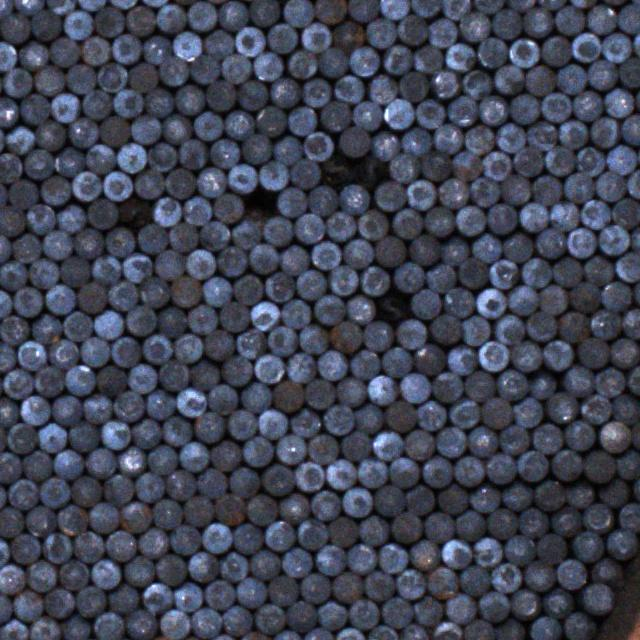tool: (435, 219, 480, 270), (346, 394, 393, 442), (48, 192, 96, 238), (262, 122, 312, 165), (273, 232, 317, 279), (0, 113, 44, 157), (47, 136, 90, 180), (539, 586, 577, 618), (154, 552, 188, 587), (524, 366, 559, 400), (11, 586, 44, 622), (598, 420, 632, 454), (332, 18, 366, 52), (343, 291, 378, 324), (589, 556, 625, 588), (106, 581, 140, 614), (532, 476, 566, 509), (25, 559, 58, 592), (426, 566, 459, 599), (280, 545, 313, 578), (200, 521, 233, 554), (371, 428, 404, 461), (187, 357, 220, 390), (347, 348, 380, 381), (234, 326, 267, 359), (530, 421, 563, 454), (461, 121, 494, 154), (509, 586, 541, 620), (604, 528, 638, 560), (448, 397, 482, 429), (358, 262, 392, 294), (561, 364, 595, 396), (492, 310, 524, 344), (10, 230, 42, 264), (579, 584, 615, 614), (105, 530, 138, 562), (56, 502, 89, 534), (6, 478, 39, 510), (101, 474, 134, 506), (157, 608, 190, 640), (444, 592, 477, 624), (120, 500, 153, 532), (245, 494, 278, 526), (468, 479, 500, 512), (195, 468, 228, 500), (517, 449, 549, 482), (556, 558, 588, 591), (6, 422, 39, 454), (53, 449, 85, 482), (210, 439, 242, 472), (338, 429, 370, 462), (258, 408, 290, 441), (385, 399, 417, 432), (94, 365, 127, 397), (220, 354, 253, 386), (284, 352, 317, 384), (264, 271, 296, 304), (545, 391, 578, 423), (494, 368, 527, 400), (576, 336, 609, 368), (557, 310, 590, 342), (475, 286, 508, 318), (486, 202, 519, 234), (531, 173, 564, 205), (195, 165, 227, 198), (160, 112, 193, 144), (32, 64, 65, 96), (507, 36, 540, 68), (138, 526, 169, 560), (292, 461, 326, 492), (582, 450, 616, 481), (238, 382, 272, 413), (414, 342, 445, 376), (568, 281, 602, 312), (255, 104, 286, 138), (316, 598, 348, 630), (381, 597, 413, 629), (478, 590, 510, 622), (266, 574, 298, 606), (332, 571, 364, 603), (524, 560, 556, 592), (123, 555, 155, 587), (217, 550, 249, 582), (377, 542, 409, 574), (504, 534, 536, 566), (296, 518, 328, 550), (551, 504, 583, 536), (278, 490, 310, 522), (572, 530, 604, 562), (290, 406, 322, 438), (19, 394, 51, 426), (114, 390, 146, 422), (272, 380, 304, 412), (254, 352, 286, 384), (109, 336, 141, 368), (92, 307, 124, 339), (124, 304, 156, 336), (249, 299, 281, 331), (498, 424, 530, 456), (512, 396, 544, 428), (542, 338, 574, 370), (356, 208, 388, 240), (572, 90, 604, 122), (605, 143, 637, 175), (75, 584, 106, 617), (73, 530, 104, 563), (26, 504, 57, 537), (341, 487, 374, 518), (435, 425, 466, 458), (401, 371, 432, 404), (395, 318, 428, 349), (30, 312, 63, 343), (44, 283, 77, 314), (73, 227, 106, 258), (500, 172, 531, 205), (381, 43, 414, 74), (44, 586, 74, 620), (313, 544, 347, 574), (421, 512, 455, 542), (323, 402, 353, 436), (45, 338, 79, 368), (156, 303, 186, 337), (482, 394, 512, 428), (610, 390, 640, 424), (59, 559, 91, 590), (90, 558, 122, 589), (10, 532, 41, 564), (70, 474, 101, 506), (220, 604, 252, 635), (348, 598, 380, 629), (172, 580, 204, 611), (363, 570, 395, 601), (490, 562, 522, 593), (440, 538, 471, 570), (232, 522, 263, 554), (487, 507, 518, 539), (213, 494, 245, 525), (436, 482, 468, 513), (228, 467, 259, 499), (261, 464, 293, 495), (454, 455, 486, 486), (550, 450, 582, 481), (3, 368, 34, 400), (86, 447, 118, 478), (243, 436, 274, 468), (306, 432, 338, 463), (130, 417, 162, 448), (194, 412, 226, 443), (366, 374, 398, 405), (432, 371, 464, 402), (156, 358, 188, 389), (140, 334, 172, 365), (268, 325, 300, 356), (298, 322, 329, 354), (217, 301, 249, 332), (312, 294, 344, 325), (564, 421, 596, 452), (510, 340, 541, 372), (457, 257, 488, 289), (519, 256, 551, 287), (8, 176, 39, 208), (82, 88, 113, 120), (374, 235, 406, 266), (167, 220, 198, 252), (261, 215, 293, 246), (548, 201, 580, 232), (451, 149, 483, 180), (146, 140, 178, 171), (526, 120, 558, 151), (509, 92, 540, 124), (205, 78, 236, 110), (366, 74, 398, 105), (524, 64, 556, 95), (65, 62, 96, 94), (141, 32, 172, 64), (521, 7, 553, 38), (251, 603, 284, 633), (358, 515, 391, 545), (405, 482, 435, 515), (502, 476, 532, 509), (486, 451, 516, 484), (329, 321, 362, 351), (62, 309, 92, 342), (169, 276, 202, 306), (478, 339, 508, 372), (99, 114, 132, 144), (408, 233, 438, 266), (456, 203, 486, 236), (437, 178, 470, 208), (15, 39, 48, 69), (62, 9, 95, 39), (444, 42, 477, 72), (173, 28, 203, 61), (125, 609, 156, 640), (189, 607, 220, 638), (412, 594, 443, 625), (170, 524, 201, 555), (15, 339, 46, 370), (404, 429, 435, 460), (416, 399, 447, 430), (51, 395, 82, 426), (203, 328, 234, 359), (430, 312, 461, 343), (464, 370, 495, 401), (121, 251, 152, 282), (153, 249, 184, 280), (325, 210, 356, 241), (424, 206, 455, 237), (406, 178, 437, 209), (494, 120, 525, 151), (383, 97, 414, 128), (415, 98, 446, 129), (447, 94, 478, 125), (173, 83, 204, 114), (579, 199, 610, 230), (124, 5, 155, 36), (490, 8, 521, 39), (155, 3, 186, 34), (42, 531, 72, 563), (284, 601, 316, 631), (248, 549, 280, 579), (518, 506, 550, 536), (373, 485, 405, 515), (164, 470, 196, 500), (356, 457, 388, 487), (388, 457, 420, 487), (422, 456, 452, 488), (12, 286, 44, 316), (146, 444, 178, 474), (179, 441, 209, 473), (207, 383, 237, 415), (281, 297, 311, 329), (411, 288, 443, 318), (75, 282, 107, 312), (202, 274, 232, 306), (466, 426, 496, 458), (445, 345, 477, 375), (489, 258, 519, 290), (550, 257, 582, 287), (28, 257, 60, 287), (50, 91, 80, 123), (186, 248, 216, 280), (502, 230, 532, 262), (536, 227, 566, 259), (198, 220, 230, 250), (229, 219, 261, 249), (212, 193, 244, 223), (276, 185, 306, 217), (338, 182, 368, 214), (373, 180, 405, 210), (482, 148, 512, 180), (544, 145, 576, 175), (320, 100, 352, 130), (351, 100, 383, 130), (599, 224, 629, 256), (596, 170, 626, 202), (96, 61, 128, 91), (251, 51, 283, 81), (348, 46, 380, 76), (300, 21, 332, 51), (217, 0, 249, 30), (564, 611, 597, 640), (584, 252, 613, 285), (89, 502, 120, 532), (40, 476, 70, 507), (204, 579, 235, 609), (236, 577, 267, 607), (410, 539, 440, 570), (472, 535, 502, 566), (391, 512, 422, 542), (182, 496, 213, 526), (325, 458, 355, 489), (564, 477, 595, 507), (0, 314, 31, 344), (275, 434, 306, 464), (162, 415, 193, 445), (227, 409, 258, 439), (305, 378, 336, 408), (317, 349, 347, 380), (364, 319, 394, 350), (187, 303, 217, 334), (232, 273, 262, 304), (328, 264, 358, 295), (426, 262, 456, 293), (609, 337, 639, 368), (526, 310, 557, 340), (42, 230, 73, 260), (71, 171, 102, 201), (86, 143, 116, 174), (34, 119, 65, 149), (217, 246, 247, 277), (568, 226, 598, 257), (150, 196, 180, 227), (182, 194, 212, 225), (307, 186, 338, 216), (557, 119, 588, 149), (223, 109, 253, 140), (143, 87, 173, 118), (237, 80, 268, 110), (399, 71, 430, 101), (556, 63, 586, 94), (610, 197, 640, 228), (588, 58, 618, 89), (49, 36, 80, 66), (31, 10, 62, 40), (94, 5, 124, 36), (287, 48, 317, 79), (317, 47, 348, 77), (541, 35, 571, 66), (398, 14, 428, 45), (427, 16, 457, 47), (554, 4, 584, 35), (601, 31, 632, 61), (586, 3, 616, 34), (93, 611, 125, 640), (264, 521, 296, 550), (598, 478, 630, 507), (23, 450, 52, 482), (508, 284, 537, 316), (0, 258, 29, 290), (60, 256, 92, 285), (86, 198, 118, 227), (68, 117, 100, 146), (249, 242, 278, 274), (136, 223, 168, 252), (294, 212, 323, 244), (563, 172, 595, 201), (338, 126, 370, 155), (130, 114, 162, 143), (268, 76, 300, 105), (126, 62, 158, 91), (380, 347, 413, 375), (142, 582, 172, 612), (300, 572, 330, 602), (395, 568, 425, 598), (188, 551, 218, 581), (346, 543, 376, 573), (456, 510, 486, 540), (152, 498, 182, 528), (69, 422, 99, 452), (100, 420, 130, 450), (176, 387, 206, 417), (34, 366, 64, 396), (64, 364, 94, 394), (80, 336, 110, 366), (394, 261, 424, 291), (580, 393, 610, 423), (106, 226, 136, 256), (103, 170, 133, 200), (117, 142, 147, 172), (113, 88, 143, 118), (342, 237, 372, 267), (472, 232, 502, 262), (392, 208, 422, 238), (470, 177, 500, 207), (390, 152, 420, 182), (513, 146, 543, 176), (208, 138, 238, 168), (401, 126, 431, 156), (158, 55, 188, 85), (221, 53, 251, 83), (267, 22, 297, 52), (366, 17, 396, 47), (459, 10, 489, 40), (187, 1, 217, 31), (460, 565, 489, 596), (536, 533, 567, 562), (327, 516, 358, 545), (309, 490, 340, 519), (583, 503, 614, 532), (83, 392, 112, 423), (146, 388, 175, 419), (337, 375, 366, 406), (589, 309, 620, 338), (444, 286, 473, 317), (91, 254, 120, 285), (40, 175, 71, 204), (179, 138, 208, 169), (333, 74, 364, 103), (1, 67, 32, 96), (189, 54, 220, 83), (235, 26, 266, 55), (174, 332, 202, 364), (596, 365, 624, 397), (462, 314, 490, 346), (127, 363, 157, 392), (108, 281, 138, 310), (296, 269, 325, 299), (538, 283, 567, 313), (26, 203, 55, 233), (24, 149, 54, 178), (21, 93, 50, 123), (311, 241, 341, 270), (135, 168, 164, 198), (258, 160, 288, 189), (290, 159, 320, 188), (421, 150, 451, 179), (241, 133, 270, 163), (371, 130, 400, 160), (433, 123, 462, 153), (478, 94, 507, 124), (301, 77, 331, 106), (494, 64, 523, 94), (576, 146, 605, 176), (590, 116, 619, 146), (80, 34, 109, 64), (476, 37, 506, 66), (61, 612, 92, 640), (40, 422, 68, 453), (519, 201, 547, 232), (431, 69, 462, 97), (109, 34, 140, 62), (572, 31, 600, 62), (28, 615, 62, 640), (165, 168, 194, 197), (304, 131, 333, 160), (602, 281, 632, 309), (227, 164, 257, 192), (194, 110, 222, 140), (542, 90, 570, 120), (0, 506, 26, 538), (530, 614, 562, 640), (135, 472, 163, 501), (140, 277, 168, 306), (288, 105, 316, 134), (462, 68, 491, 96), (604, 88, 633, 116), (1, 14, 30, 42), (204, 28, 233, 56), (0, 562, 25, 594), (0, 204, 25, 236), (118, 446, 146, 474), (614, 250, 640, 280), (249, 0, 279, 26), (284, 0, 314, 26), (494, 616, 526, 640), (414, 44, 442, 71), (615, 449, 640, 478), (463, 617, 494, 640), (616, 4, 640, 33), (0, 152, 23, 182), (617, 56, 640, 86), (315, 0, 345, 23), (0, 452, 22, 483), (347, 0, 378, 22), (618, 501, 640, 531), (619, 113, 640, 144), (0, 617, 28, 640), (0, 395, 19, 427), (621, 307, 640, 339), (432, 620, 462, 640), (0, 96, 19, 126), (380, 0, 410, 19), (398, 623, 430, 640), (440, 0, 470, 18), (410, 0, 439, 17), (368, 624, 398, 640), (625, 168, 640, 200), (0, 39, 15, 71), (0, 342, 15, 371), (13, 0, 44, 14), (46, 0, 75, 14), (303, 627, 334, 640), (473, 0, 504, 13), (0, 592, 12, 624)
tool_b: (305, 140, 399, 197), (364, 277, 422, 329), (109, 183, 162, 235)
void: (233, 176, 287, 228)
